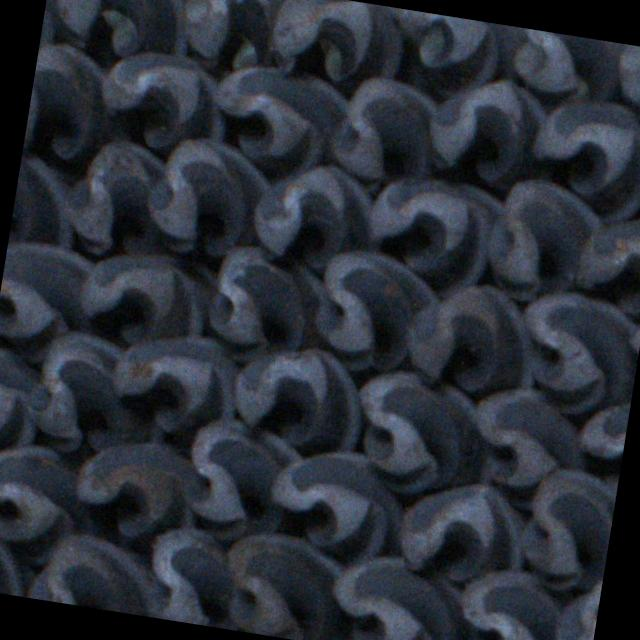tool_b: (344, 367, 496, 503), (23, 326, 172, 464), (359, 170, 506, 298), (306, 244, 444, 379), (140, 132, 278, 266), (506, 284, 640, 419), (263, 442, 412, 562), (402, 274, 545, 398), (225, 334, 370, 456), (215, 526, 367, 640), (202, 58, 351, 174), (176, 415, 306, 546), (92, 42, 238, 158), (482, 177, 609, 310), (105, 326, 246, 444), (392, 474, 534, 590), (250, 157, 386, 277), (66, 431, 206, 547), (422, 69, 556, 189), (72, 245, 218, 354), (525, 90, 640, 227), (371, 6, 526, 106), (203, 242, 328, 364), (461, 384, 594, 498), (323, 547, 480, 640), (60, 133, 174, 260), (322, 74, 442, 194), (514, 465, 619, 596), (263, 0, 408, 89), (0, 435, 92, 564), (27, 530, 161, 618), (22, 40, 114, 164), (136, 521, 241, 629), (0, 241, 101, 352), (502, 26, 632, 110), (45, 0, 206, 66), (176, 0, 305, 76), (446, 562, 570, 640), (8, 152, 84, 257), (574, 210, 640, 310), (0, 345, 48, 452), (574, 394, 632, 471), (547, 564, 604, 640), (0, 523, 36, 597), (610, 44, 640, 123)
